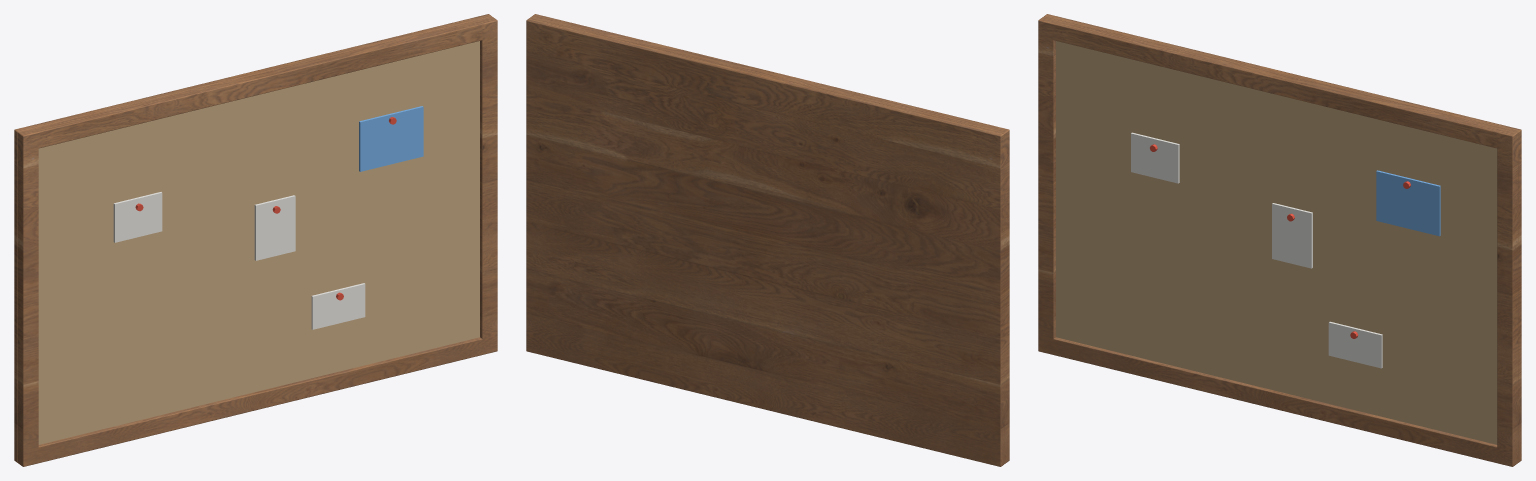
Rendered from pinboard.glb.
3 renders of one model, left to right at view 1: azimuth 30°, elevation 25°; view 2: azimuth 150°, elevation 25°; view 3: azimuth 330°, elevation 25°, orthographic.
Parts seen in each view (by area): view 1: Pinboard; view 2: Pinboard; view 3: Pinboard.
Part boxes in pixels (x1=…): Pinboard: x1=14, y1=14, x2=497, y2=466; Pinboard: x1=526, y1=14, x2=1009, y2=466; Pinboard: x1=1038, y1=14, x2=1521, y2=466.
Bounding box in the file's own units: 1.08 × 0.72 × 0.0408.
Materials: 5 (1 with a texture image).
